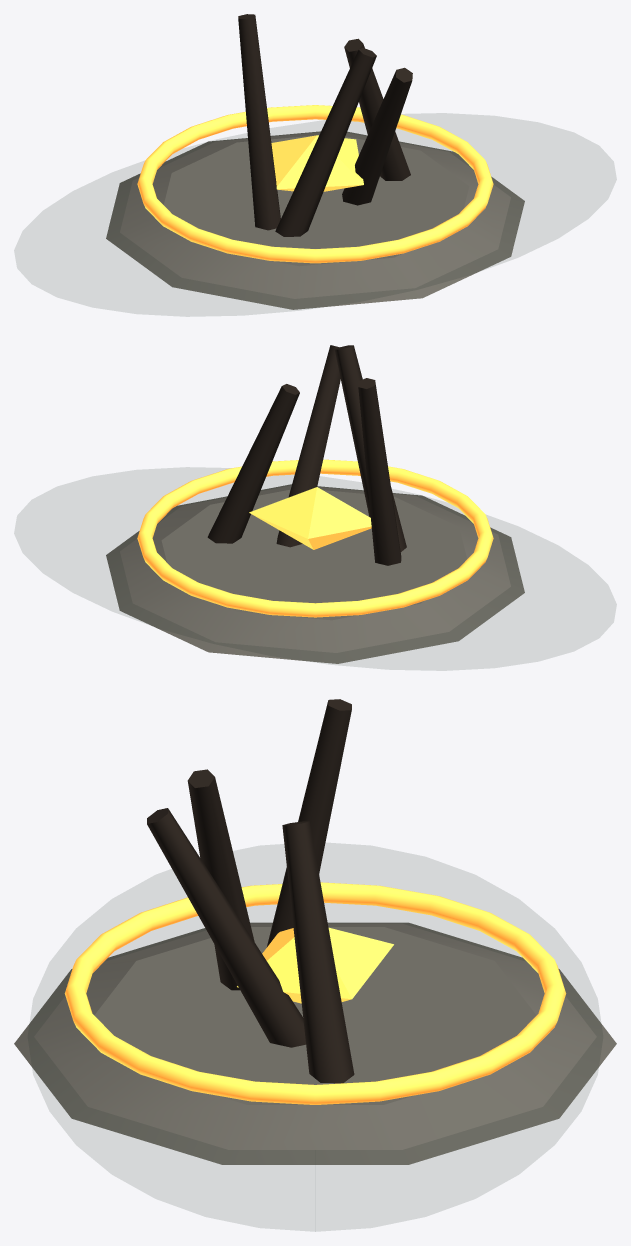
The model's file is world_event_remnant.glb.
3 renders of one model, top to bottom at view 1: azimuth 30°, elevation 25°; view 2: azimuth 150°, elevation 25°; view 3: azimuth 270°, elevation 25°, orthographic. The views are drawn at different scales.
Visible parts, largest first — view 1: remnant_ash_bed, soft_ground_shadow, remnant_trace_ring, burnt_marker_2, burnt_marker_3, burnt_marker_1, remnant_glow_core, burnt_marker_0; view 2: remnant_ash_bed, soft_ground_shadow, remnant_trace_ring, burnt_marker_0, burnt_marker_3, remnant_glow_core, burnt_marker_1, burnt_marker_2; view 3: remnant_ash_bed, soft_ground_shadow, remnant_trace_ring, burnt_marker_0, burnt_marker_1, burnt_marker_3, burnt_marker_2, remnant_glow_core.
Boxes of the visible parts, bbox=[...] form: remnant_ash_bed: bbox=[106, 131, 524, 309]; soft_ground_shadow: bbox=[14, 113, 615, 316]; remnant_trace_ring: bbox=[137, 105, 493, 263]; burnt_marker_2: bbox=[275, 48, 376, 236]; burnt_marker_3: bbox=[238, 14, 280, 230]; burnt_marker_1: bbox=[342, 67, 412, 205]; remnant_glow_core: bbox=[271, 135, 363, 191]; burnt_marker_0: bbox=[344, 38, 410, 180]; remnant_ash_bed: bbox=[106, 484, 524, 663]; soft_ground_shadow: bbox=[14, 467, 616, 670]; remnant_trace_ring: bbox=[137, 459, 493, 617]; burnt_marker_0: bbox=[207, 384, 299, 543]; burnt_marker_3: bbox=[358, 378, 401, 565]; remnant_glow_core: bbox=[249, 487, 371, 549]; burnt_marker_1: bbox=[276, 345, 340, 547]; burnt_marker_2: bbox=[335, 345, 406, 552]; remnant_ash_bed: bbox=[14, 922, 616, 1164]; soft_ground_shadow: bbox=[28, 843, 602, 1231]; remnant_trace_ring: bbox=[64, 882, 566, 1104]; burnt_marker_0: bbox=[282, 821, 354, 1083]; burnt_marker_1: bbox=[147, 808, 305, 1047]; burnt_marker_3: bbox=[266, 699, 351, 947]; burnt_marker_2: bbox=[187, 769, 254, 990]; remnant_glow_core: bbox=[237, 927, 393, 1003].
Size of the model in its own units: 3 by 1.26 by 1.96.
